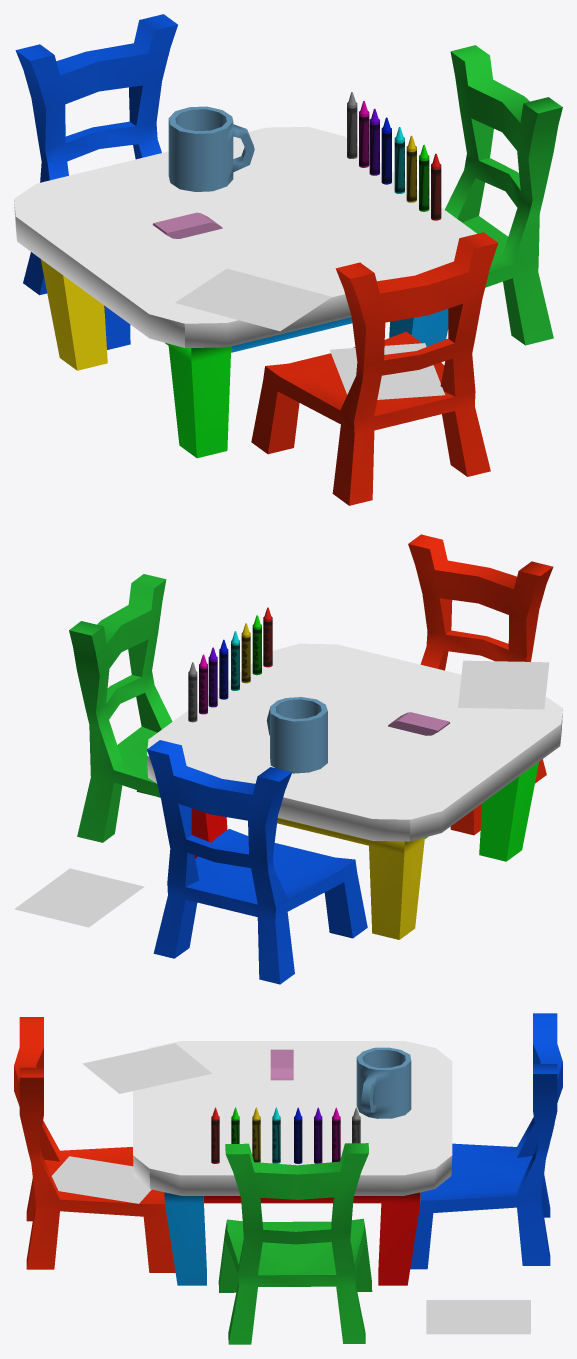
The model's file is childsTable.fbx.
3 views of the same model, one above another, from view 1: azimuth 30°, elevation 25°; view 2: azimuth 150°, elevation 25°; view 3: azimuth 270°, elevation 25° (orthographic). The views are drawn at different scales.
Parts seen in each view (by area): view 1: child_Table, chair1, chair2, chair, child_cup, paper2, paper1, eraser, crayon13, crayon12, crayon, crayon11 (+4 smaller); view 2: child_Table, chair, chair2, chair1, child_cup, paper2, paper, eraser; view 3: child_Table, chair2, chair, chair1, child_cup, paper2, paper, paper1, eraser, crayon, crayon10, crayon12 (+3 smaller).
Part boxes in pixels (x1,y1,x2,y2): child_Table: (14,127,476,458); chair1: (251,232,498,505); chair2: (444,45,562,345); chair: (15,14,177,349); child_cup: (168,106,254,191); paper2: (175,268,331,331); paper1: (330,343,444,399); eraser: (152,212,222,238); crayon13: (381,117,391,184); crayon12: (369,108,379,175); crayon: (431,153,441,220); crayon11: (406,135,416,202); child_Table: (147,643,562,939); chair: (147,740,367,984); chair2: (69,574,172,842); chair1: (408,534,553,835); child_cup: (266,697,327,773); paper2: (458,660,549,709); paper: (14,868,144,927); eraser: (388,712,449,735); child_Table: (133,1041,452,1285); chair2: (218,1143,372,1344); chair: (410,1013,562,1269); chair1: (14,1017,175,1272); child_cup: (356,1047,411,1118); paper2: (82,1043,211,1093); paper: (426,1300,530,1334); paper1: (51,1156,151,1203); eraser: (270,1049,293,1080); crayon: (211,1107,219,1163); crayon10: (272,1107,280,1163); crayon12: (314,1107,322,1163).
Bounding box in the file's own units: 4.81 × 2.41 × 6.13.
Materials: 15 (9 with a texture image).
